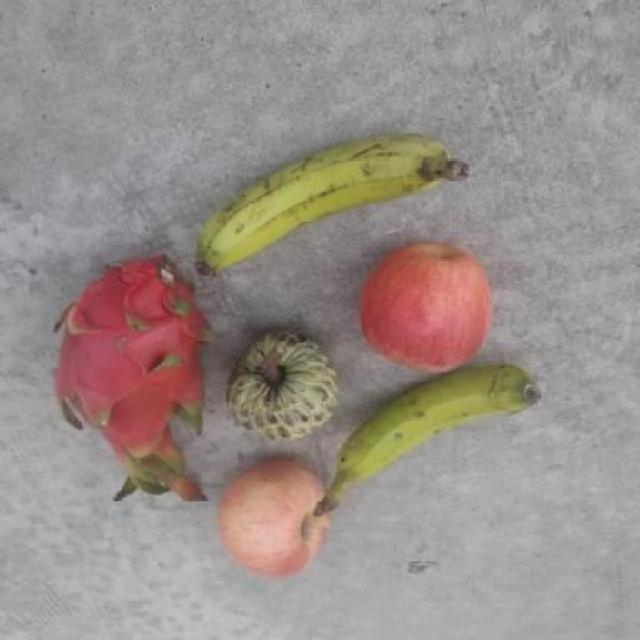apple: (354, 238, 494, 374), (217, 454, 332, 578)
banana: (192, 133, 472, 279), (308, 364, 541, 518)
dragon fruit: (45, 256, 216, 502)
sugar apple: (222, 328, 340, 442)
